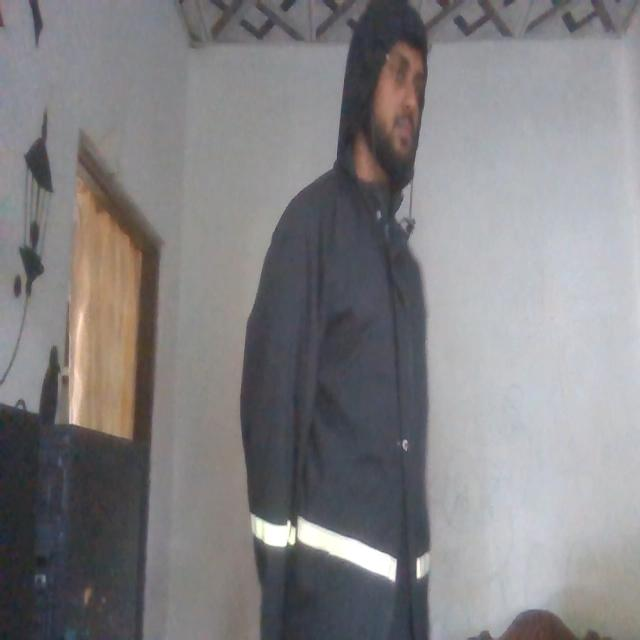Jacket_Wearer: (240, 140, 433, 640)
Person: (228, 0, 461, 640)
